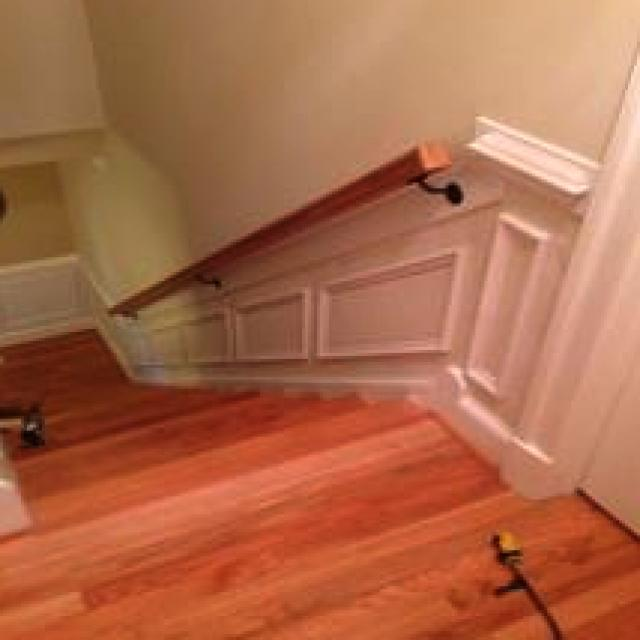downstair: (1, 336, 462, 530)
